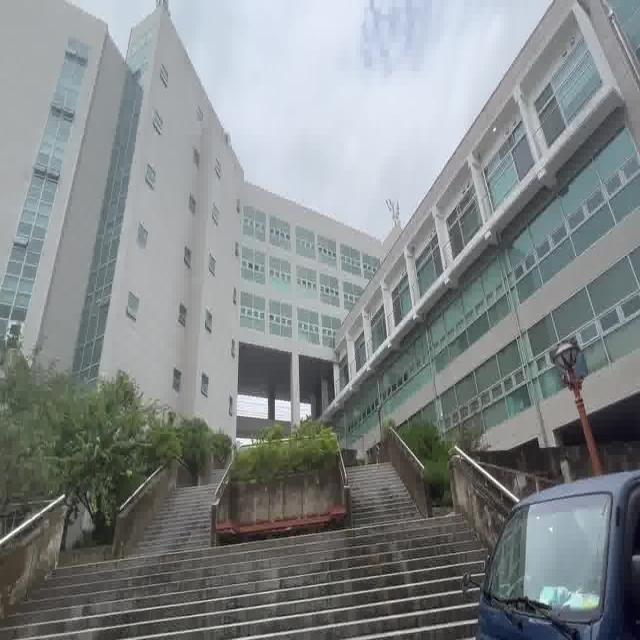building: (4, 51, 427, 366)
